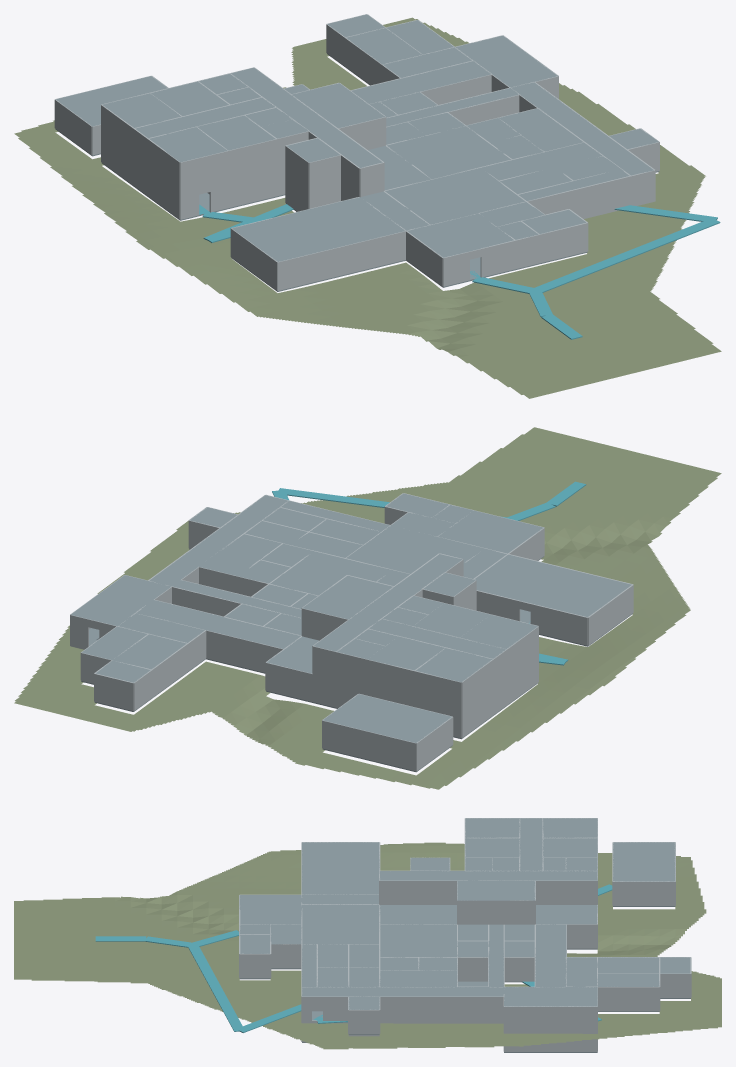
The model's file is terrain-assembly.glb.
3 views of the same model, one above another, from view 1: azimuth 30°, elevation 25°; view 2: azimuth 150°, elevation 25°; view 3: azimuth 270°, elevation 25° (orthographic). The views are drawn at different scales.
Visible parts, largest first — view 1: Saved editor macroterrain ASYLUM, Ceiling cap day, Ceiling cap dining, Wall day S, Ceiling cap treatment, Ceiling cap upper-spine, Ceiling cap service, Ceiling cap service-stair, Ceiling cap admission, Wall meal-return S, Ceiling cap service-link, Ceiling cap upper-stair (+52 smaller); view 2: Saved editor macroterrain ASYLUM, Ceiling cap day, Ceiling cap dining, Ceiling cap chapel, Ceiling cap upper-spine, Wall chapel N, Ceiling cap service, Ceiling cap service-link, Ceiling cap treatment, Ceiling cap service-stair, Ceiling cap admission, Ceiling cap upper-stair (+50 smaller); view 3: Saved editor macroterrain ASYLUM, Ceiling cap day, Wall service E, Ceiling cap dining, Ceiling cap treatment, Ceiling cap chapel, Wall service-stair E, Ceiling cap upper-spine, Ceiling cap service, Ceiling cap service-link, Wall upper-stair E, Wall upper-spine E.001 (+47 smaller).
Boxes of the visible parts, bbox=[...] form: Saved editor macroterrain ASYLUM: bbox=[14, 17, 721, 398]; Ceiling cap day: bbox=[232, 197, 404, 261]; Ceiling cap dining: bbox=[385, 168, 525, 224]; Wall day S: bbox=[277, 231, 405, 290]; Ceiling cap treatment: bbox=[387, 126, 511, 179]; Ceiling cap upper-spine: bbox=[231, 67, 382, 167]; Ceiling cap service: bbox=[511, 82, 653, 175]; Ceiling cap service-stair: bbox=[455, 36, 557, 87]; Ceiling cap admission: bbox=[407, 213, 513, 257]; Wall meal-return S: bbox=[527, 176, 631, 216]; Ceiling cap service-link: bbox=[351, 61, 490, 103]; Ceiling cap upper-stair: bbox=[292, 83, 385, 128]; Saved editor macroterrain ASYLUM: bbox=[14, 427, 721, 789]; Ceiling cap day: bbox=[474, 554, 631, 617]; Ceiling cap dining: bbox=[346, 525, 483, 573]; Ceiling cap chapel: bbox=[323, 694, 451, 743]; Ceiling cap upper-spine: bbox=[313, 554, 462, 651]; Wall chapel N: bbox=[322, 720, 416, 771]; Ceiling cap service: bbox=[149, 495, 287, 586]; Ceiling cap service-link: bbox=[136, 600, 300, 648]; Ceiling cap treatment: bbox=[270, 551, 391, 595]; Ceiling cap service-stair: bbox=[71, 575, 171, 626]; Ceiling cap admission: bbox=[438, 510, 543, 553]; Ceiling cap upper-stair: bbox=[302, 575, 392, 619]; Saved editor macroterrain ASYLUM: bbox=[14, 842, 721, 1049]; Ceiling cap day: bbox=[302, 842, 379, 894]; Wall service E: bbox=[323, 996, 503, 1020]; Ceiling cap dining: bbox=[302, 904, 379, 944]; Ceiling cap treatment: bbox=[380, 924, 457, 957]; Ceiling cap chapel: bbox=[613, 842, 675, 881]; Wall service-stair E: bbox=[504, 1006, 597, 1030]; Ceiling cap upper-spine: bbox=[379, 871, 597, 880]; Ceiling cap service: bbox=[302, 987, 503, 996]; Ceiling cap service-link: bbox=[535, 924, 566, 986]; Wall upper-stair E: bbox=[457, 900, 535, 924]; Wall upper-spine E.001: bbox=[379, 880, 467, 904].
Size of the model in its own units: 62 by 9.96 by 91.
